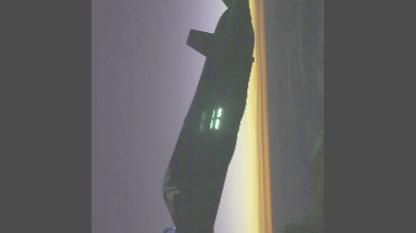F22: (161, 0, 257, 231)
